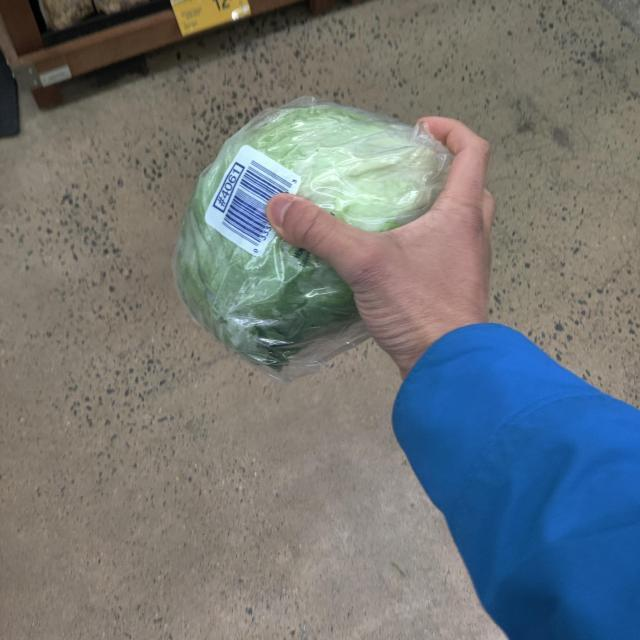Cabbage: (152, 100, 494, 378)
